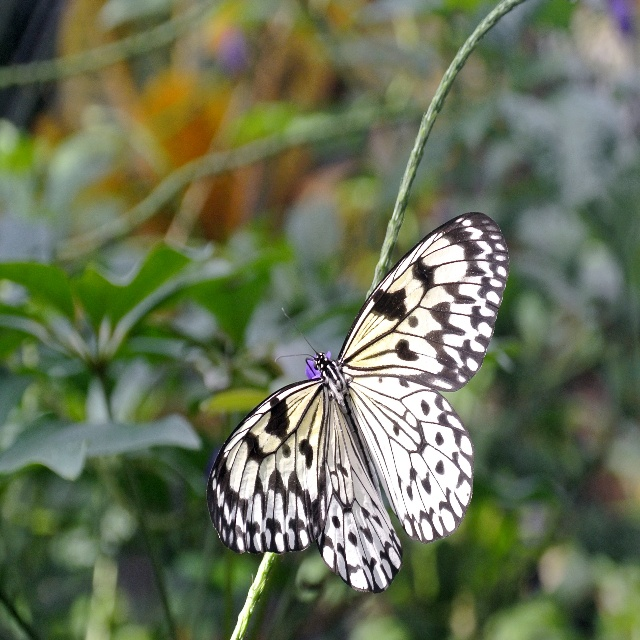Butterfly: (206, 211, 510, 593)
